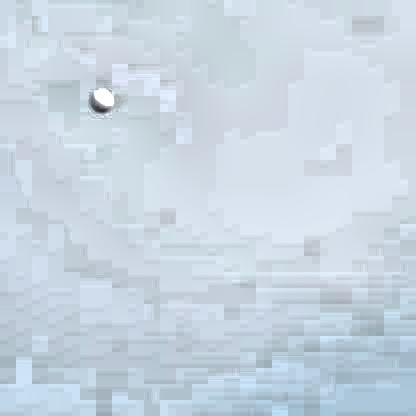golfball: (87, 83, 111, 111)
